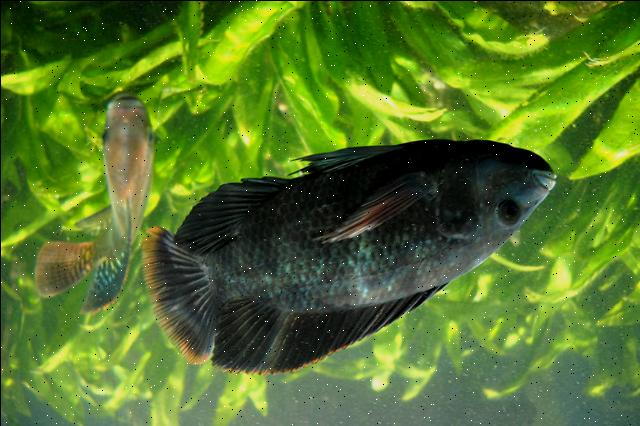Mulut: (514, 131, 582, 207)
Sirip Anal: (162, 164, 288, 264)
Sirip Dada: (295, 157, 457, 259), (280, 120, 412, 180)
Sirip Ekor: (114, 206, 246, 388), (12, 220, 84, 314)
Sirip Punggung: (195, 276, 441, 390), (75, 183, 148, 321)
